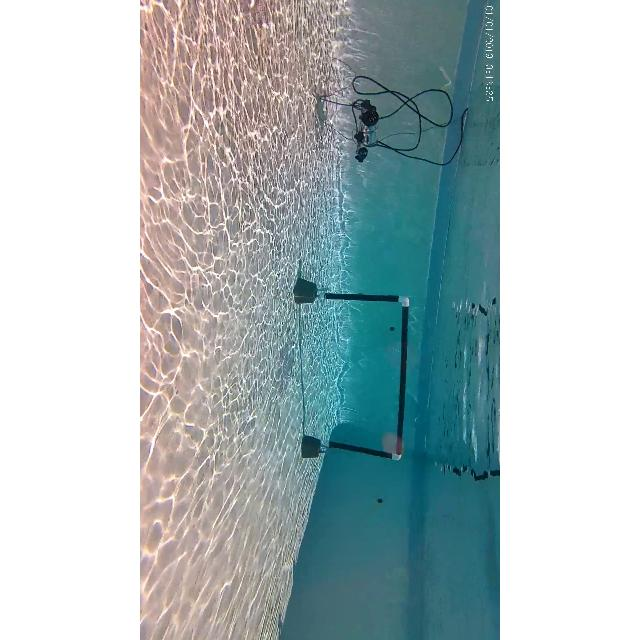prequal gate: (317, 292, 411, 462)
prequal gate leg l: (290, 284, 414, 310)
prequal gate leg r: (302, 434, 400, 462)
